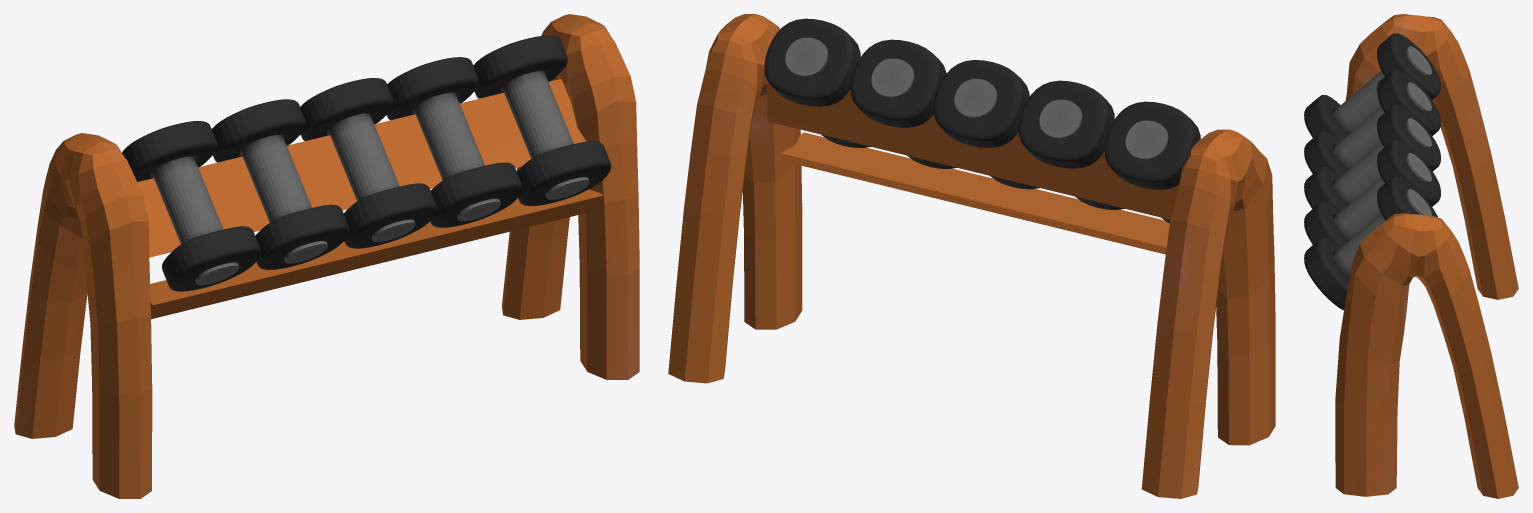
The picture shows the model from 3 angles, left to right: view 1: azimuth 30°, elevation 25°; view 2: azimuth 150°, elevation 25°; view 3: azimuth 270°, elevation 25°; orthographic projection. The views are drawn at different scales.
Parts seen in each view (by area): view 1: Cubo_2, Cube.005_7, Cube.002_3, Cube.004_6, Cube.003_5, Cube.001_4; view 2: Cubo_2, Cube.004_6, Cube.002_3, Cube.003_5, Cube.001_4, Cube.005_7; view 3: Cubo_2, Cube.005_7, Cube.001_4, Cube.004_6, Cube.003_5, Cube.002_3.
Boxes of the visible parts, x1,y1,x2,y2 form: Cubo_2: (14, 14, 639, 498); Cube.005_7: (122, 121, 260, 291); Cube.002_3: (473, 35, 611, 206); Cube.004_6: (212, 99, 349, 269); Cube.003_5: (300, 78, 436, 248); Cube.001_4: (386, 57, 522, 227); Cubo_2: (668, 14, 1275, 498); Cube.004_6: (1018, 80, 1124, 209); Cube.002_3: (764, 18, 870, 147); Cube.003_5: (933, 60, 1039, 189); Cube.001_4: (850, 39, 956, 168); Cube.005_7: (1104, 101, 1200, 223); Cubo_2: (1335, 14, 1518, 498); Cube.005_7: (1304, 33, 1440, 141); Cube.001_4: (1304, 140, 1440, 247); Cube.004_6: (1304, 69, 1440, 176); Cube.003_5: (1304, 105, 1440, 211); Cube.002_3: (1304, 176, 1437, 310).
Bounding box in the file's own units: 14.04 × 8.21 × 5.74.
